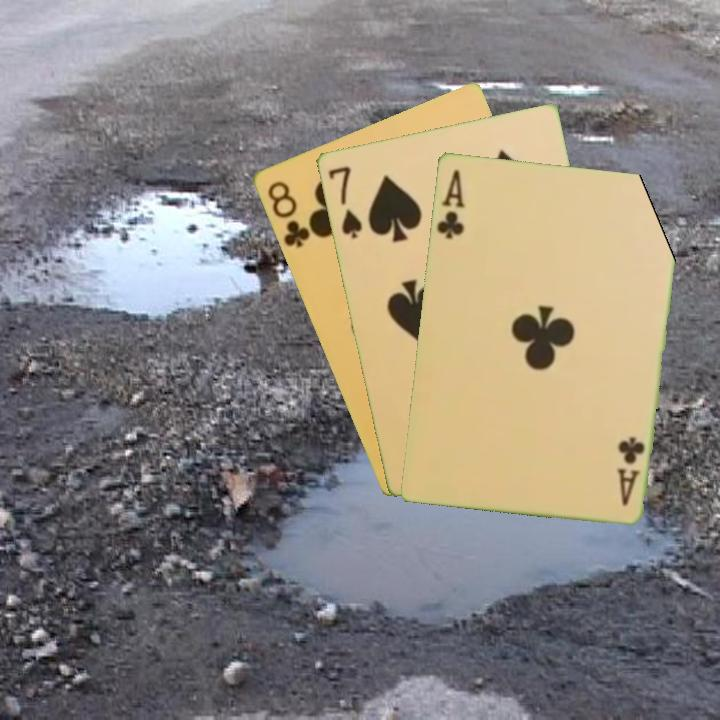7s: (324, 162, 365, 242)
8c: (263, 177, 313, 250)
Ac: (432, 166, 467, 242), (612, 432, 647, 508)
